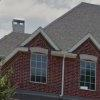Chimney: (8, 10, 31, 41)
